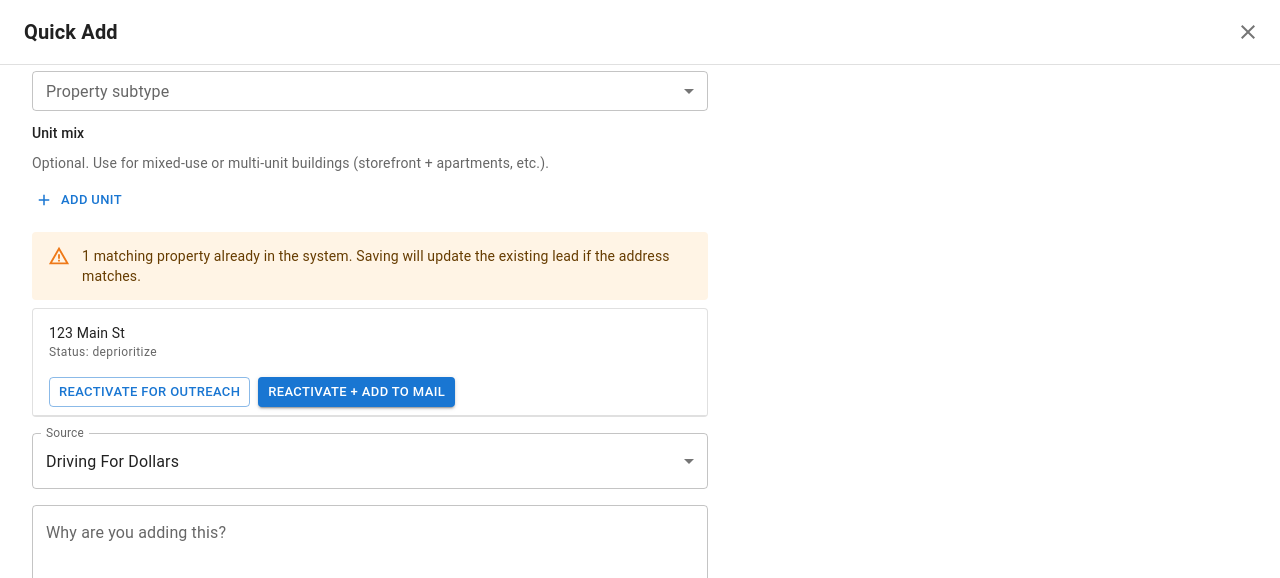
Test: QuickAddPage deprioritized matches › reactivates before adding an existing lead to mail
(page scrolled)
Step 1. Click the button with aria-label "Reactivate 123 Main St and add to mail" → (357,392), box [258,377,455,407]
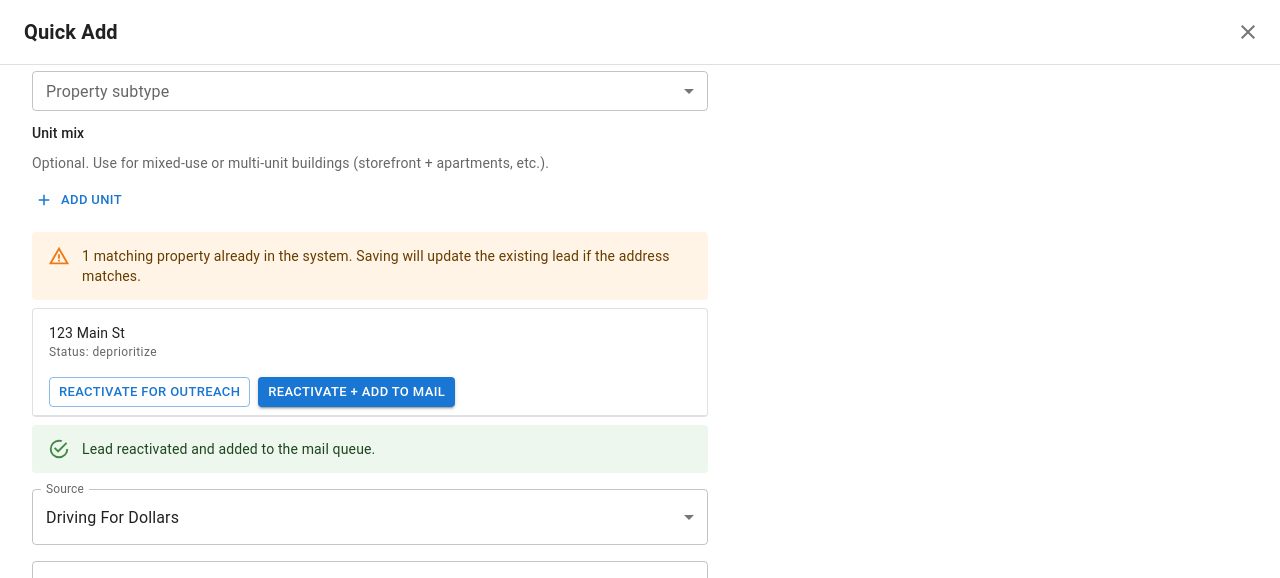
Result: the text "Lead reactivated and added to the mail queue." is shown at [82,441,375,457]
